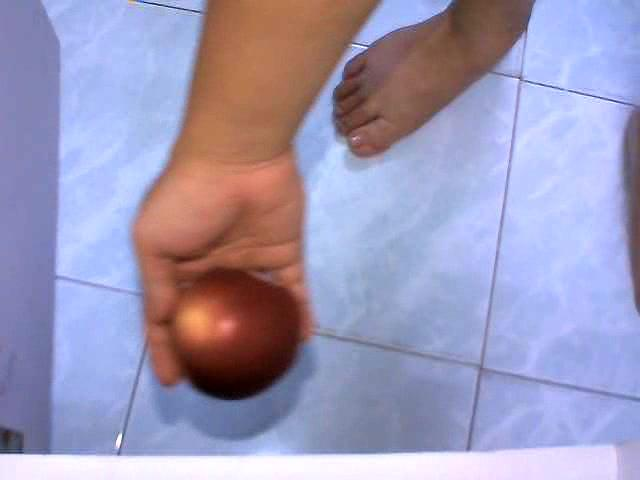apple: (168, 266, 302, 402)
